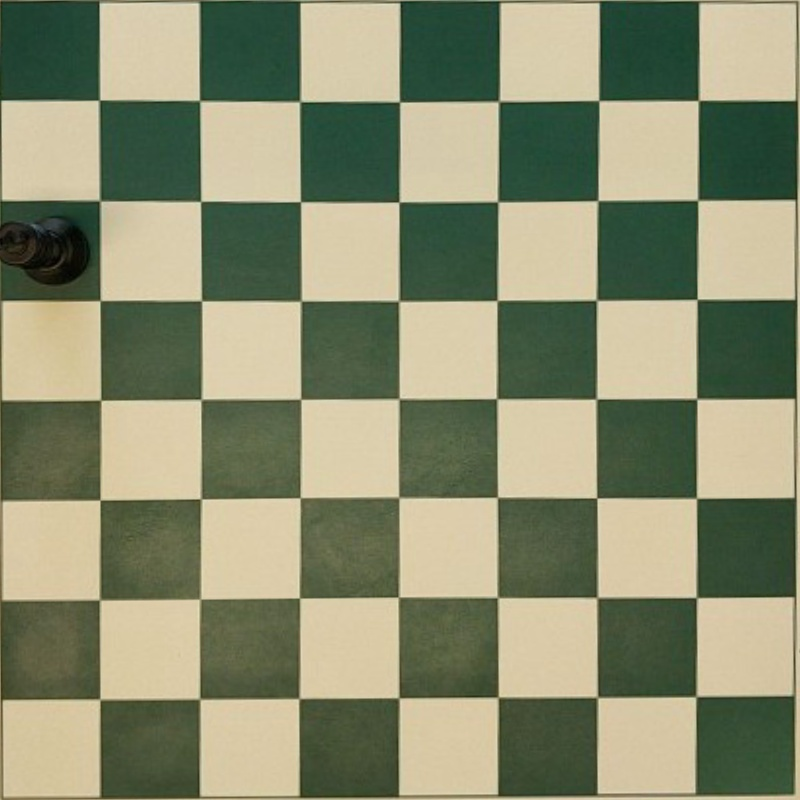black-king: (0, 215, 88, 284)
